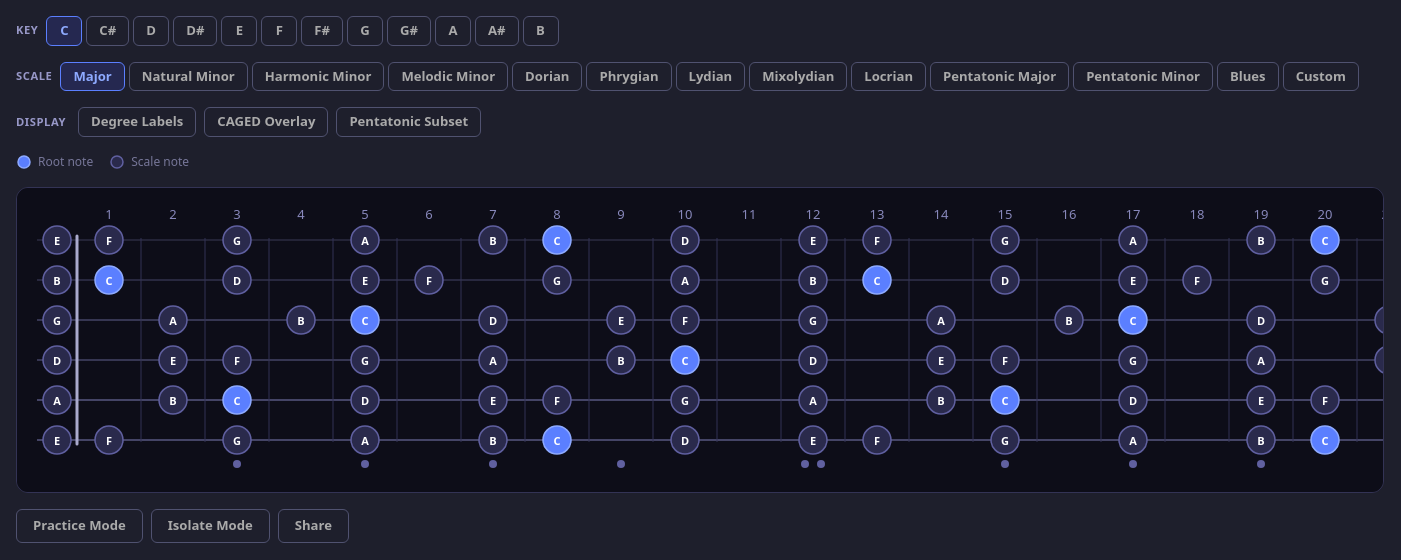
Test case: ScalesPage – Pentatonic Subset button enabled/disabled state › IS disabled when the current scale is Blues
This screenshot has width=1401, height=560.
Click the radio button labelled "Blues" at point(1248, 77), box [1217,62,1279,91]
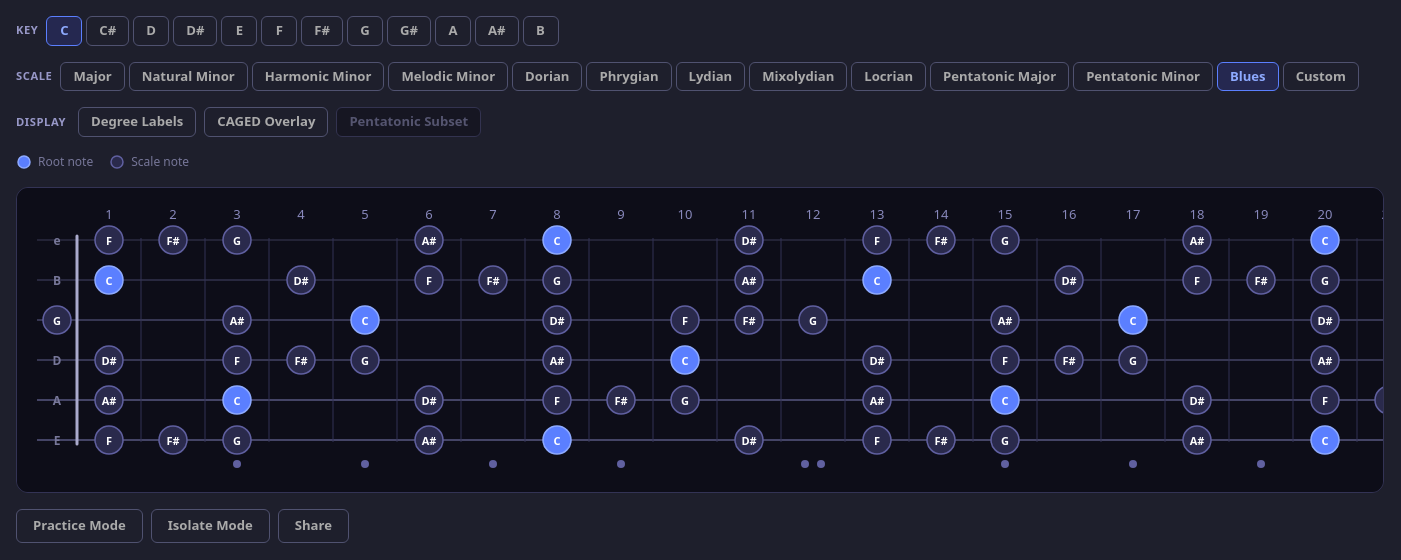
Expected: the button "Pentatonic Subset" is disabled, [336,107,481,137]
